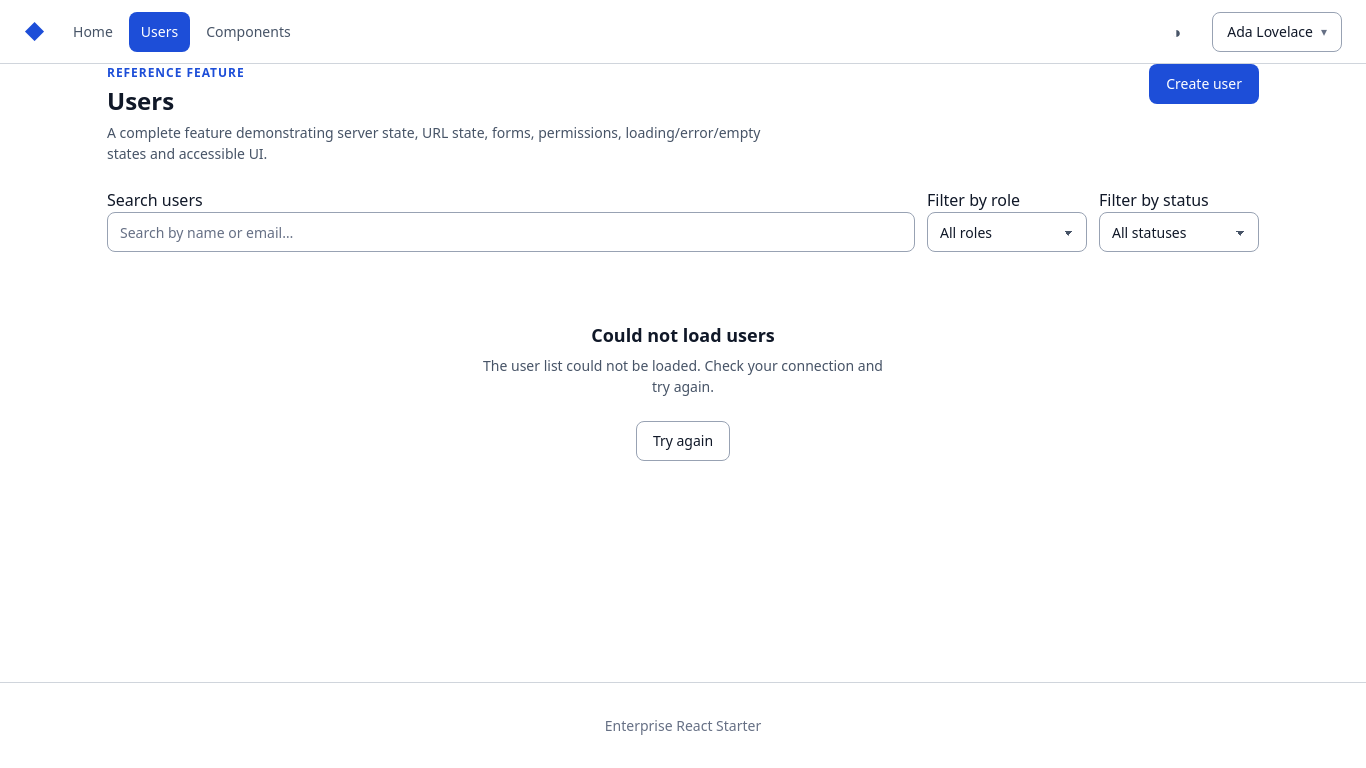
Test: UsersPage integration › list › shows the error state with a working retry
Expected: the heading "Could not load users" is shown, [591, 324, 775, 346]
Step 1. Click the button "Try again" → coordinates (683, 440), box [636, 420, 730, 460]
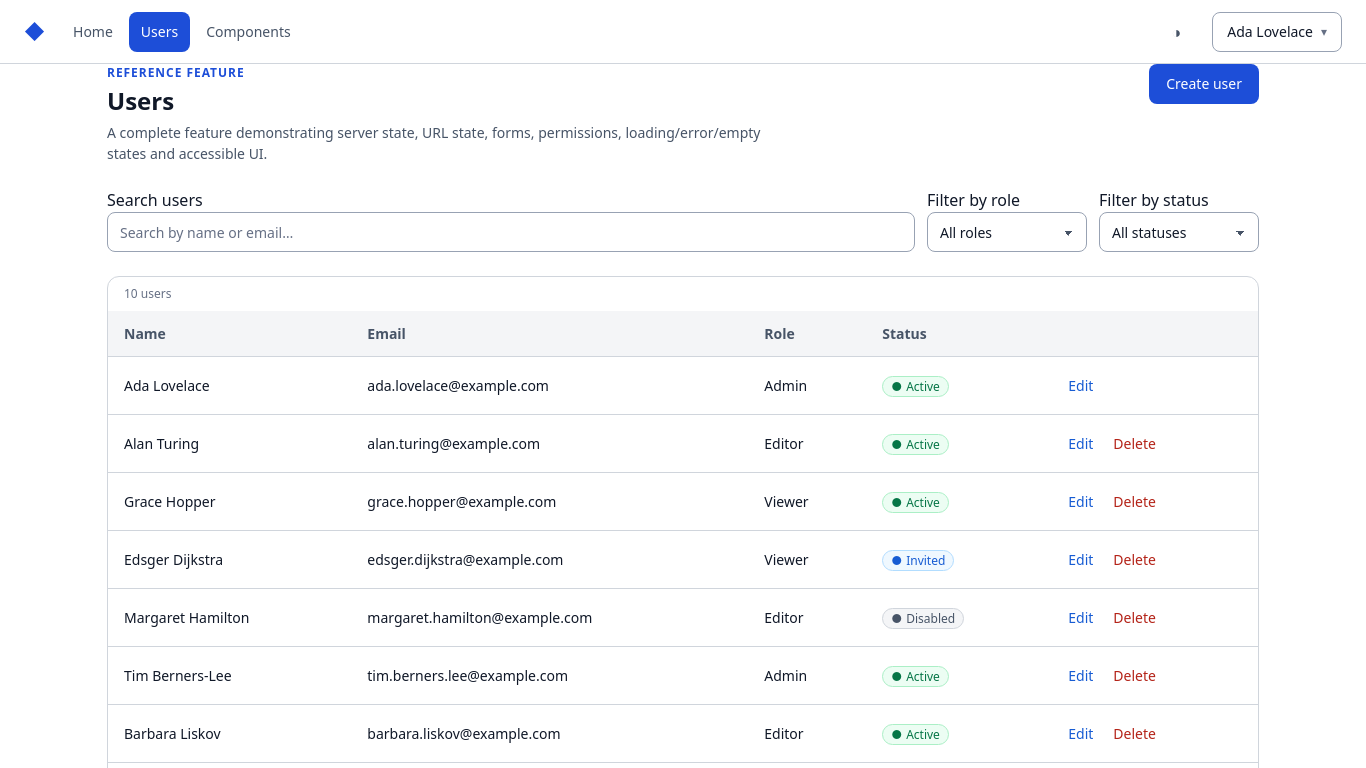
Expected: the column heading "Ada Lovelace" is shown, [108, 356, 351, 414]
